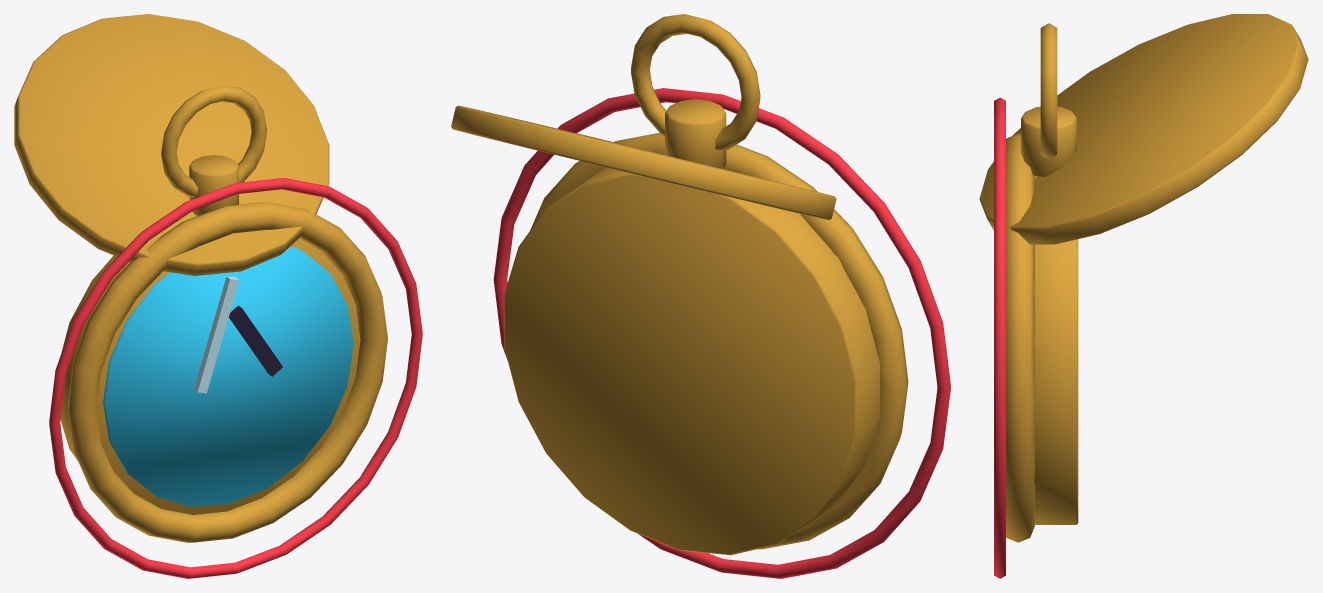
Rendered from magic_watch.obj.
3 renders of one model, left to right at view 1: azimuth 30°, elevation 25°; view 2: azimuth 150°, elevation 25°; view 3: azimuth 270°, elevation 25°, orthographic. The views are drawn at different scales.
Parts seen in each view (by area): view 1: OpenLid, GlowDial, Bezel, TimeHalo, Case, BowRing, Crown, HandMin, HandHour; view 2: Case, TimeHalo, Bezel, OpenLid, BowRing, Crown; view 3: OpenLid, Case, Bezel, TimeHalo, Crown, BowRing.
Boxes of the visible parts, left/top/right/bottom form: OpenLid: left=14, top=14, right=329, bottom=275; GlowDial: left=103, top=246, right=353, bottom=506; Bezel: left=67, top=202, right=387, bottom=542; TimeHalo: left=49, top=178, right=422, bottom=578; Case: left=60, top=239, right=360, bottom=514; BowRing: left=161, top=85, right=266, bottom=197; Crown: left=189, top=155, right=238, bottom=215; HandMin: left=194, top=276, right=239, bottom=393; HandHour: left=229, top=305, right=282, bottom=376; Case: left=504, top=167, right=880, bottom=555; TimeHalo: left=493, top=88, right=950, bottom=578; Bezel: left=530, top=132, right=908, bottom=549; OpenLid: left=451, top=105, right=836, bottom=220; BowRing: left=631, top=14, right=760, bottom=150; Crown: left=665, top=99, right=726, bottom=168; OpenLid: left=979, top=14, right=1308, bottom=244; Case: left=1034, top=176, right=1078, bottom=524; Bezel: left=1006, top=133, right=1034, bottom=542; TimeHalo: left=994, top=97, right=1005, bottom=578; Crown: left=1021, top=106, right=1076, bottom=177; BowRing: left=1040, top=23, right=1057, bottom=159.
Bounding box in the file's own units: 0.346 × 0.4163 × 0.2357.
